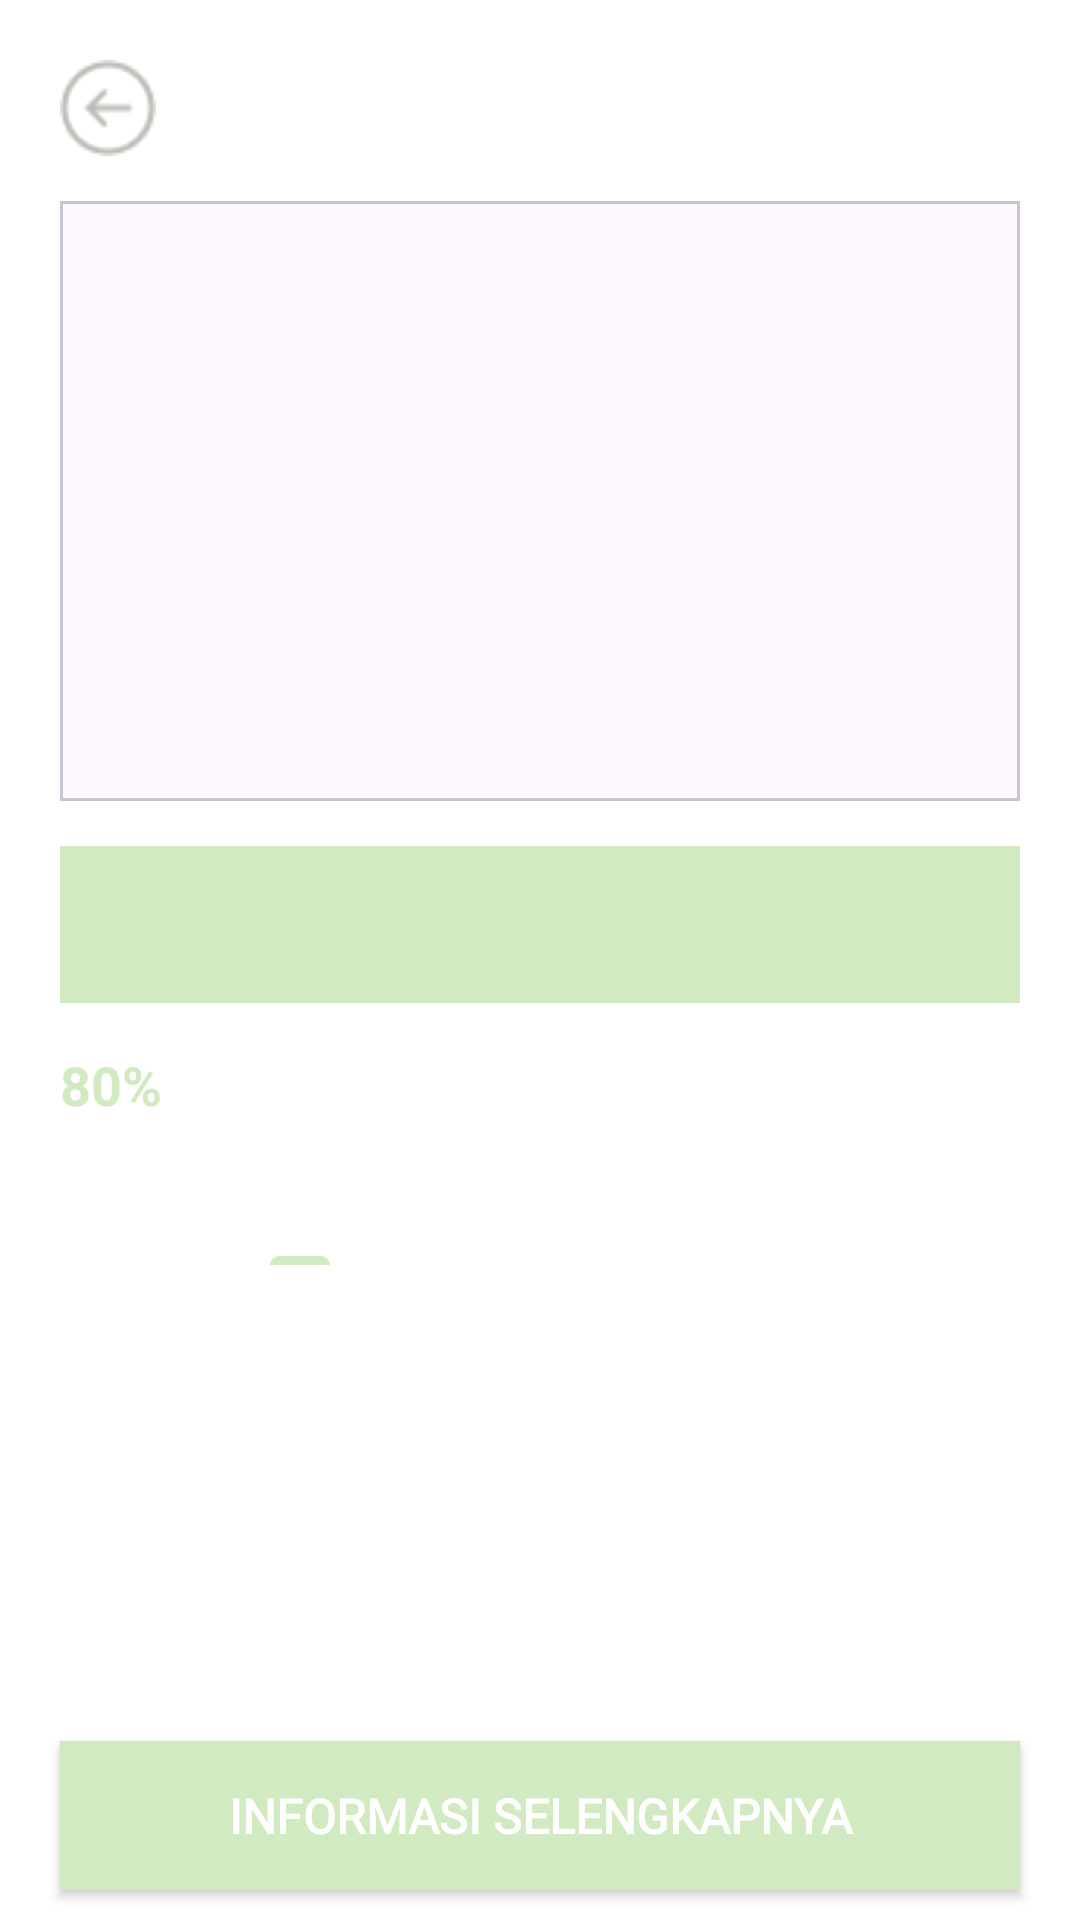

Where to tap for icons on this 1080w x 1920h app screen, as [x,y]:
back: [108,108]
